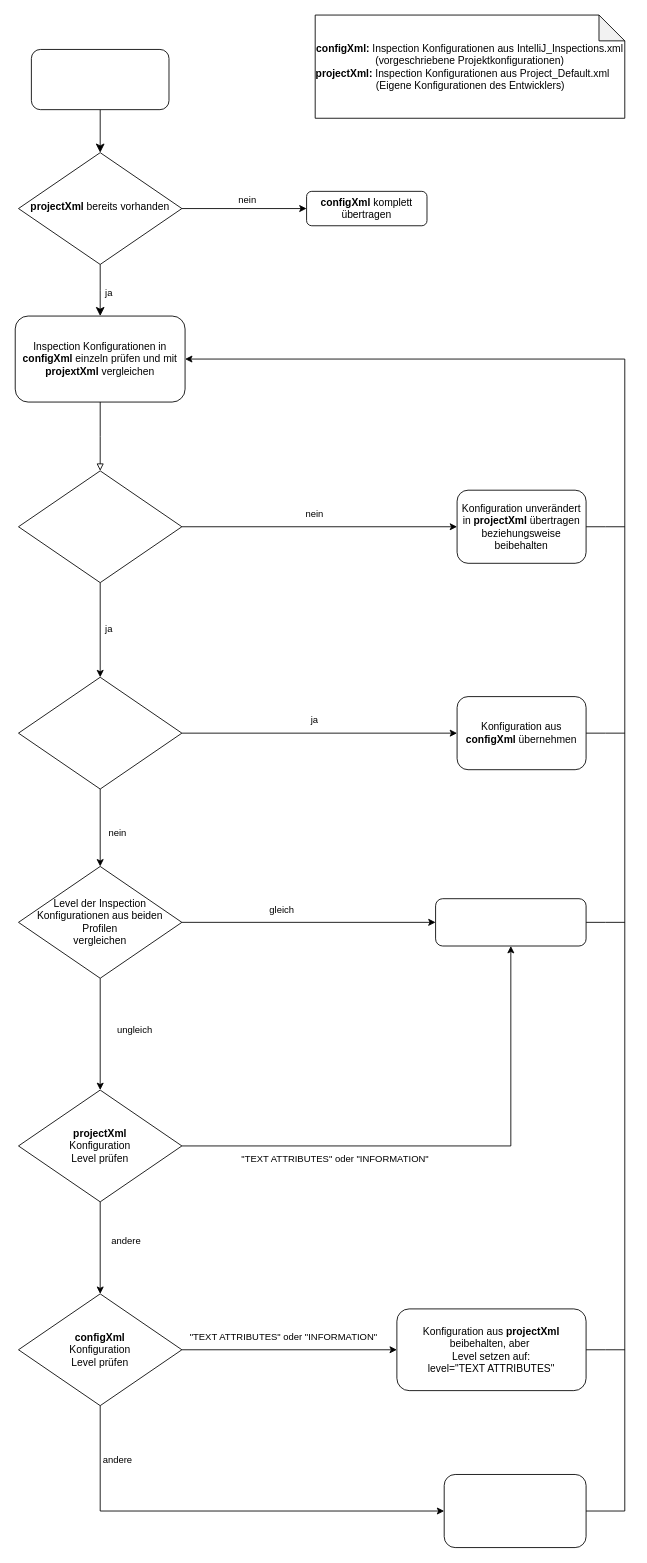
Some shapes in this 647 by 1563 pixel diagram are drawn without their labels. The centre of each missing label's shape, as x and y in pixels:
configXml Merge in projectXml gestartet: the point at 100,79
Inspection Konfiguration in beiden Profilen enthalten: the point at 100,526
Konfiguration aus projectXml beibehalten: the point at 510,922
Konfiguration aus projectXml wird beibehalten: the point at 514,1511
Level der configXml Konfiguration ist "Cleanup": the point at 100,732
